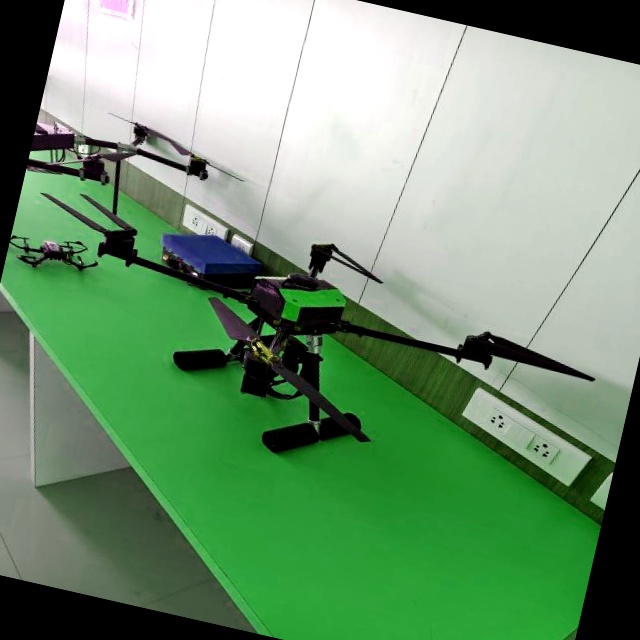quadcopter: (0, 161, 625, 521)
